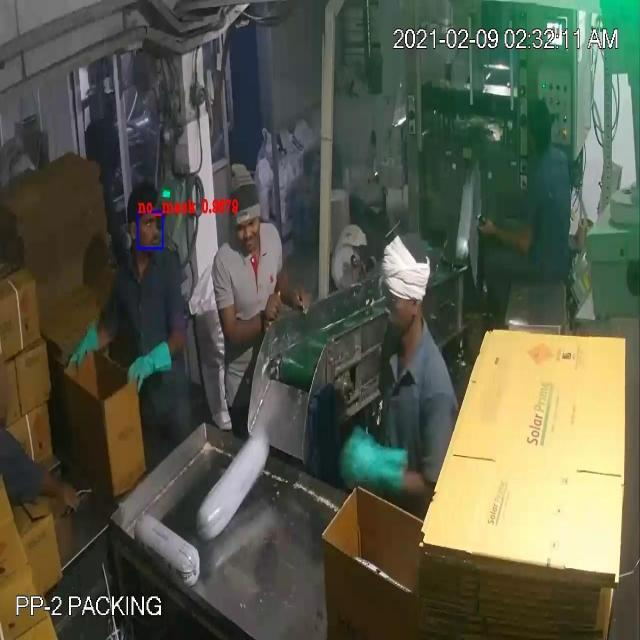No_Gloves: (43, 70, 506, 476)
